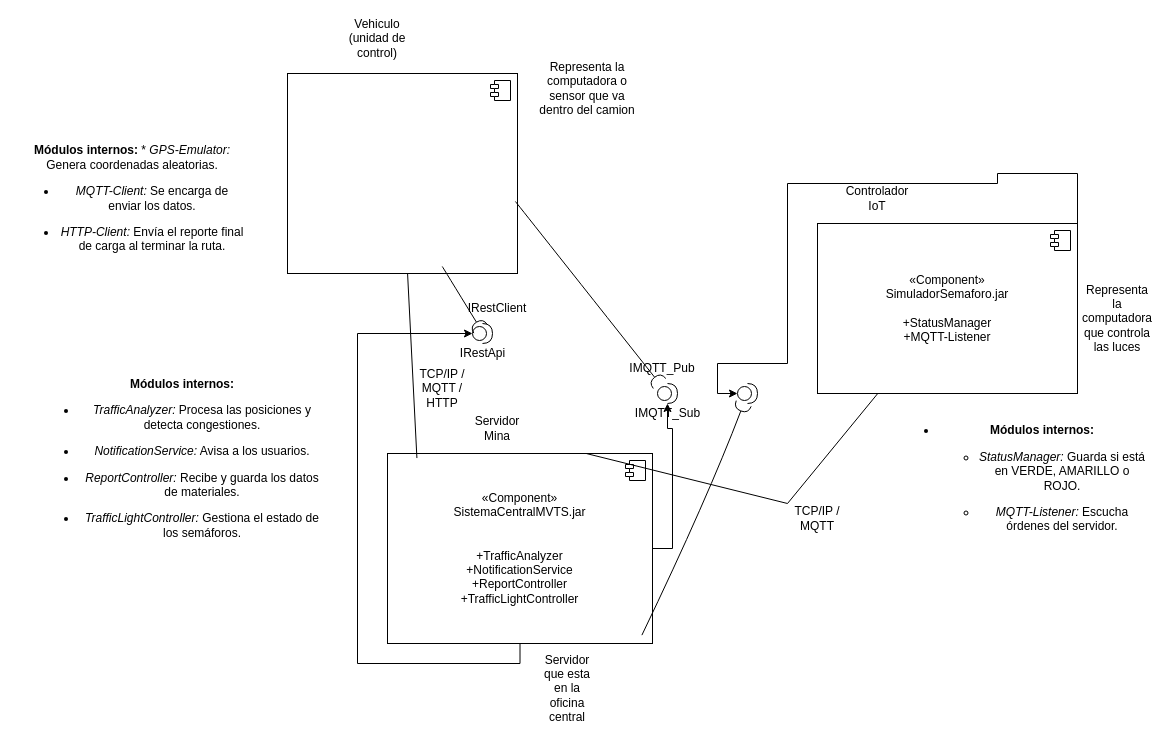
Image size: 1169x742. Some labels were removed from this diagram. Here are the shapes that lost their labels. From the top down, the centre of each, then its label:
point (402, 173): «Component» SimuladorVehiculo.jar +GPS-emulator +MQTT-Client +HTTP-Client
point (747, 393): ITrafficControl
